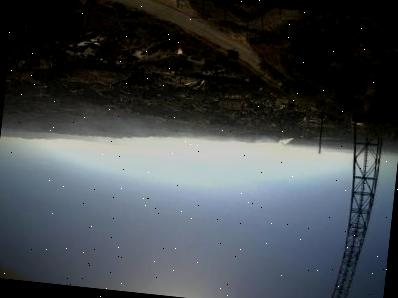smoke: (266, 135, 294, 152)
